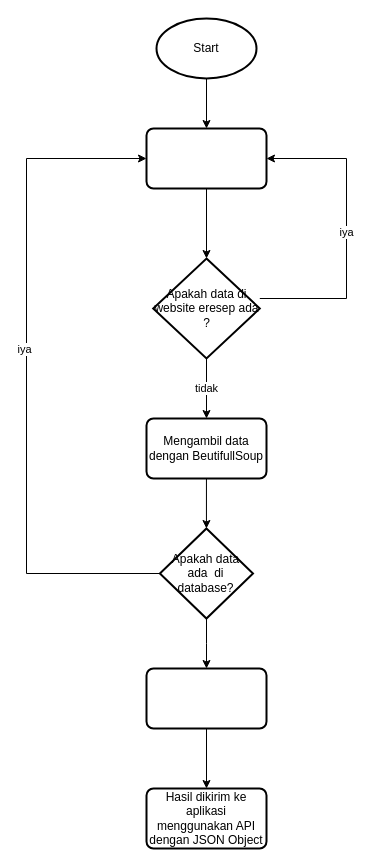
Some shapes in this 372 by 866 pixel diagram are drawn without their labels. The centre of each missing label's shape, as x and y in pixels:
Disimpan di database: (x=206, y=698)
Tekan tombol Scraping: (x=206, y=158)
